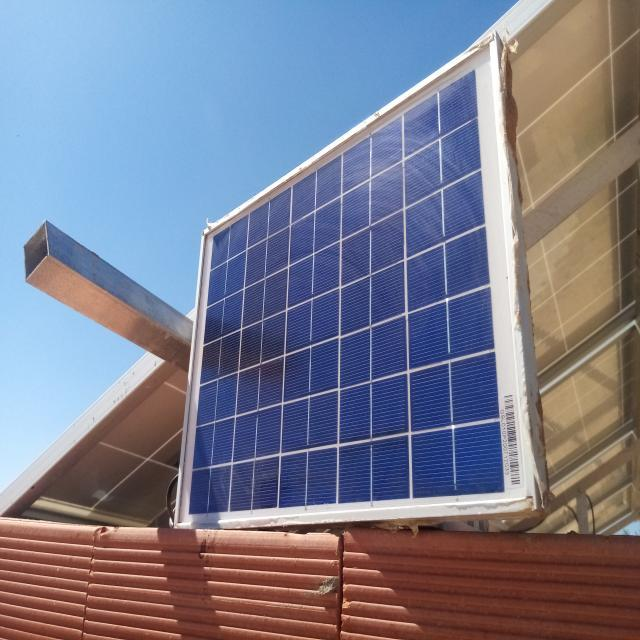no faulty: (175, 36, 531, 526)
